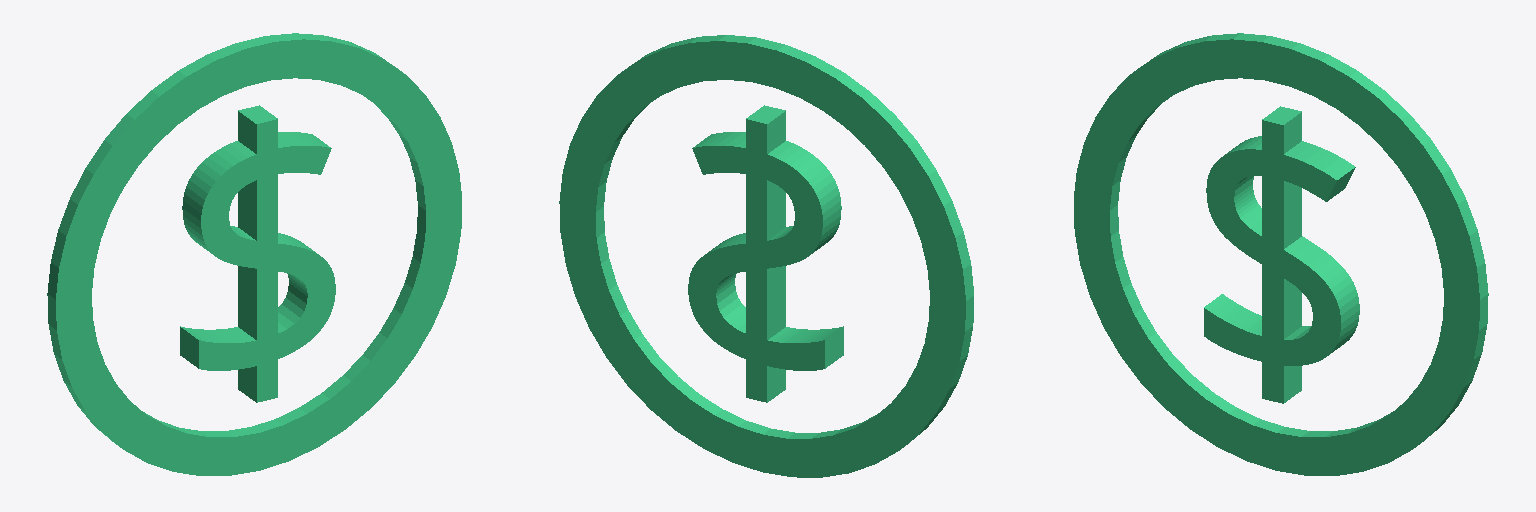
File: Deal.obj
3 renders of one model, left to right at view 1: azimuth 30°, elevation 25°; view 2: azimuth 150°, elevation 25°; view 3: azimuth 330°, elevation 25°, orthographic.
Parts seen in each view (by area): view 1: group_0_[number redacted]; view 2: group_0_[number redacted]; view 3: group_0_[number redacted].
Part boxes in pixels (x1,y1,x2,y2): group_0_[number redacted]: (47,33,461,475); group_0_[number redacted]: (559,35,973,477); group_0_[number redacted]: (1074,33,1488,475).
Size of the model in its own units: 0.992 by 0.9914 by 0.0793.